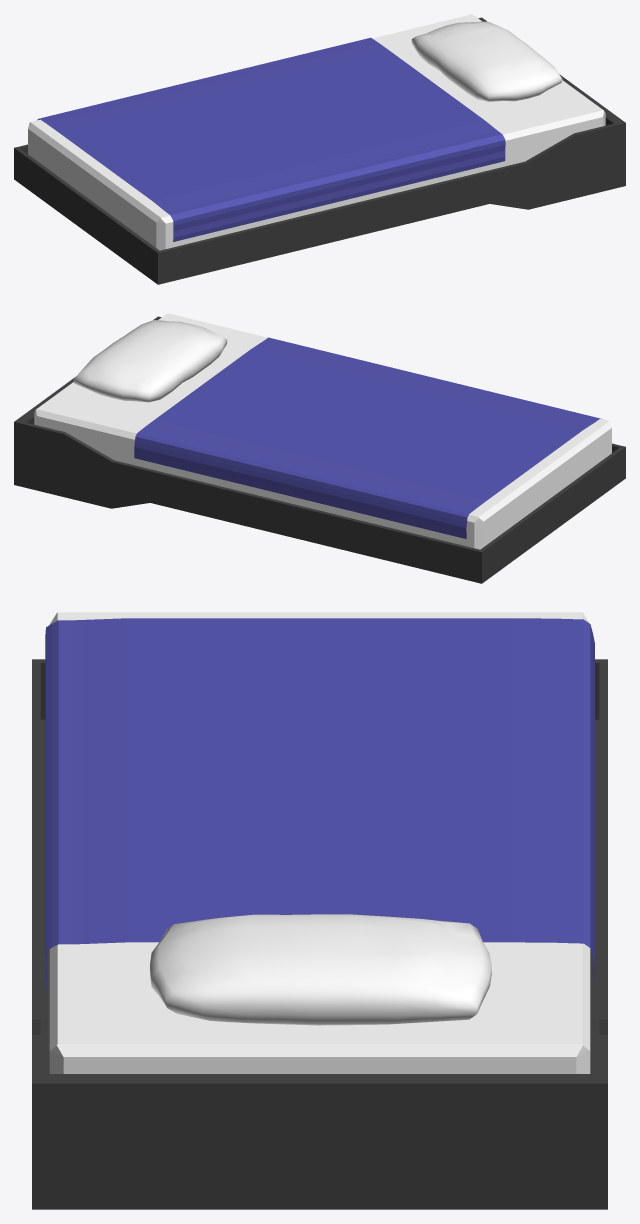
Rendered from bed.fbx.
3 views of the same model, one above another, from view 1: azimuth 30°, elevation 25°; view 2: azimuth 150°, elevation 25°; view 3: azimuth 270°, elevation 25° (orthographic). The views are drawn at different scales.
Visible parts, largest first — view 1: Cube.002; view 2: Cube.002; view 3: Cube.002.
Boxes of the visible parts, <box> form: Cube.002: <box>14,14,625,284</box>; Cube.002: <box>14,313,625,583</box>; Cube.002: <box>32,612,607,1209</box>.
Size of the model in its own units: 741 by 157 by 395.
